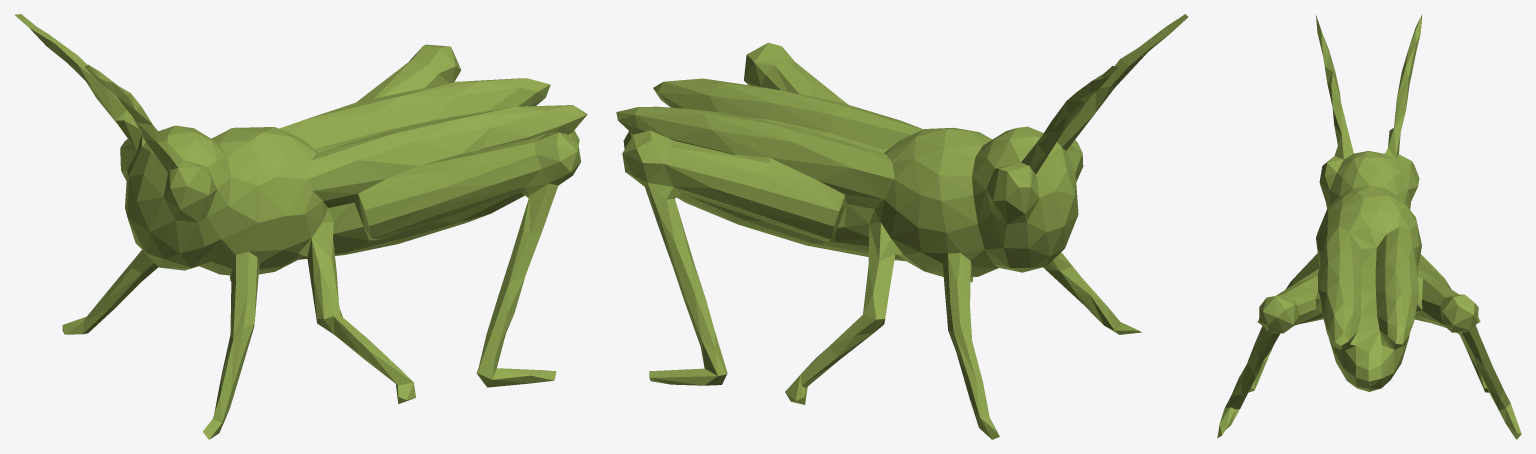
Rendered from NEW_RECOVERY_031_LOD2.glb.
3 views of the same model, side by side, from view 1: azimuth 30°, elevation 25°; view 2: azimuth 150°, elevation 25°; view 3: azimuth 270°, elevation 25° (orthographic). The views are drawn at different scales.
Visible parts, largest first — view 1: Grasshopper_closed_sculpture; view 2: Grasshopper_closed_sculpture; view 3: Grasshopper_closed_sculpture.
Boxes of the visible parts, x1,y1,x2,y2 form: Grasshopper_closed_sculpture: [14, 14, 587, 439]; Grasshopper_closed_sculpture: [616, 14, 1188, 439]; Grasshopper_closed_sculpture: [1217, 14, 1521, 439].
Bounding box in the file's own units: 3.46 × 2.3 × 2.28.
